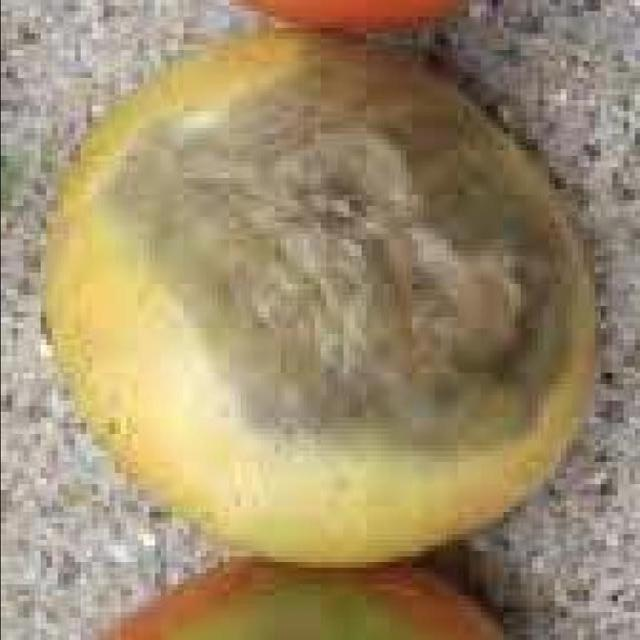Blossom End Rot Fruit: (59, 37, 383, 317)
